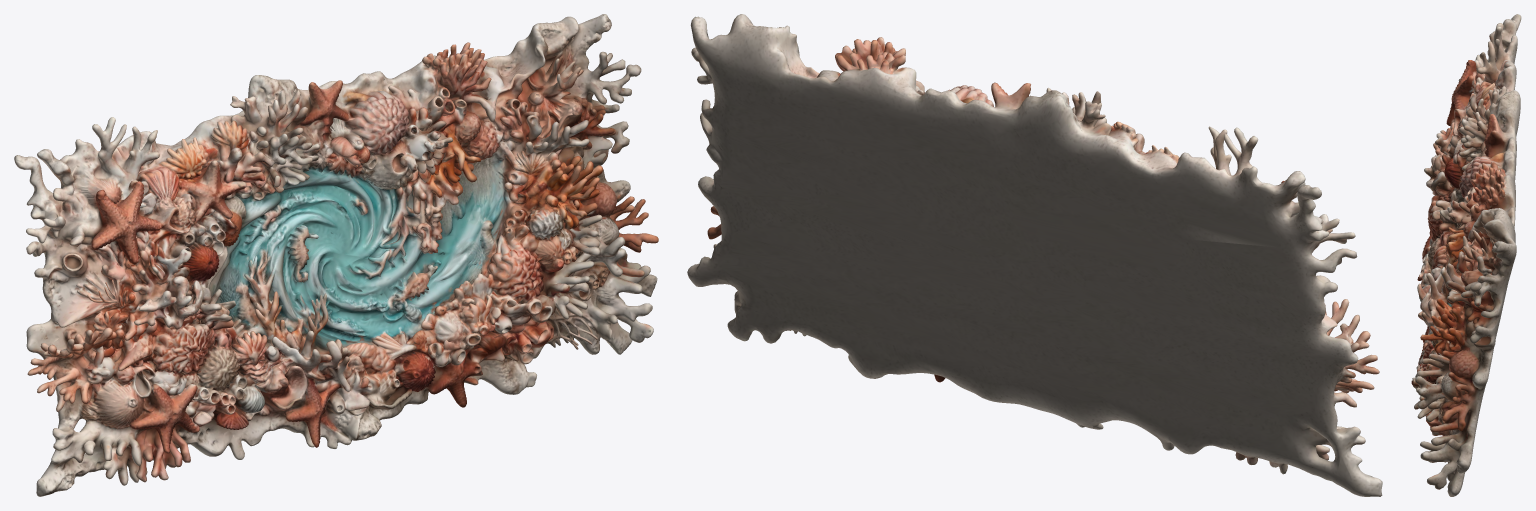
3 views of the same model, side by side, from view 1: azimuth 30°, elevation 25°; view 2: azimuth 150°, elevation 25°; view 3: azimuth 270°, elevation 25° (orthographic). The views are drawn at different scales.
Parts seen in each view (by area): view 1: tripo_node_8a051037-df98-4814-8544-99d291aeb348; view 2: tripo_node_8a051037-df98-4814-8544-99d291aeb348; view 3: tripo_node_8a051037-df98-4814-8544-99d291aeb348.
Part boxes in pixels (<box>): tripo_node_8a051037-df98-4814-8544-99d291aeb348: <box>14,14,658,496</box>; tripo_node_8a051037-df98-4814-8544-99d291aeb348: <box>687,14,1382,496</box>; tripo_node_8a051037-df98-4814-8544-99d291aeb348: <box>1411,14,1521,496</box>.
Bounding box in the file's own units: 0.9807 × 0.5156 × 0.1786.
Materials: 1 (1 with a texture image).
